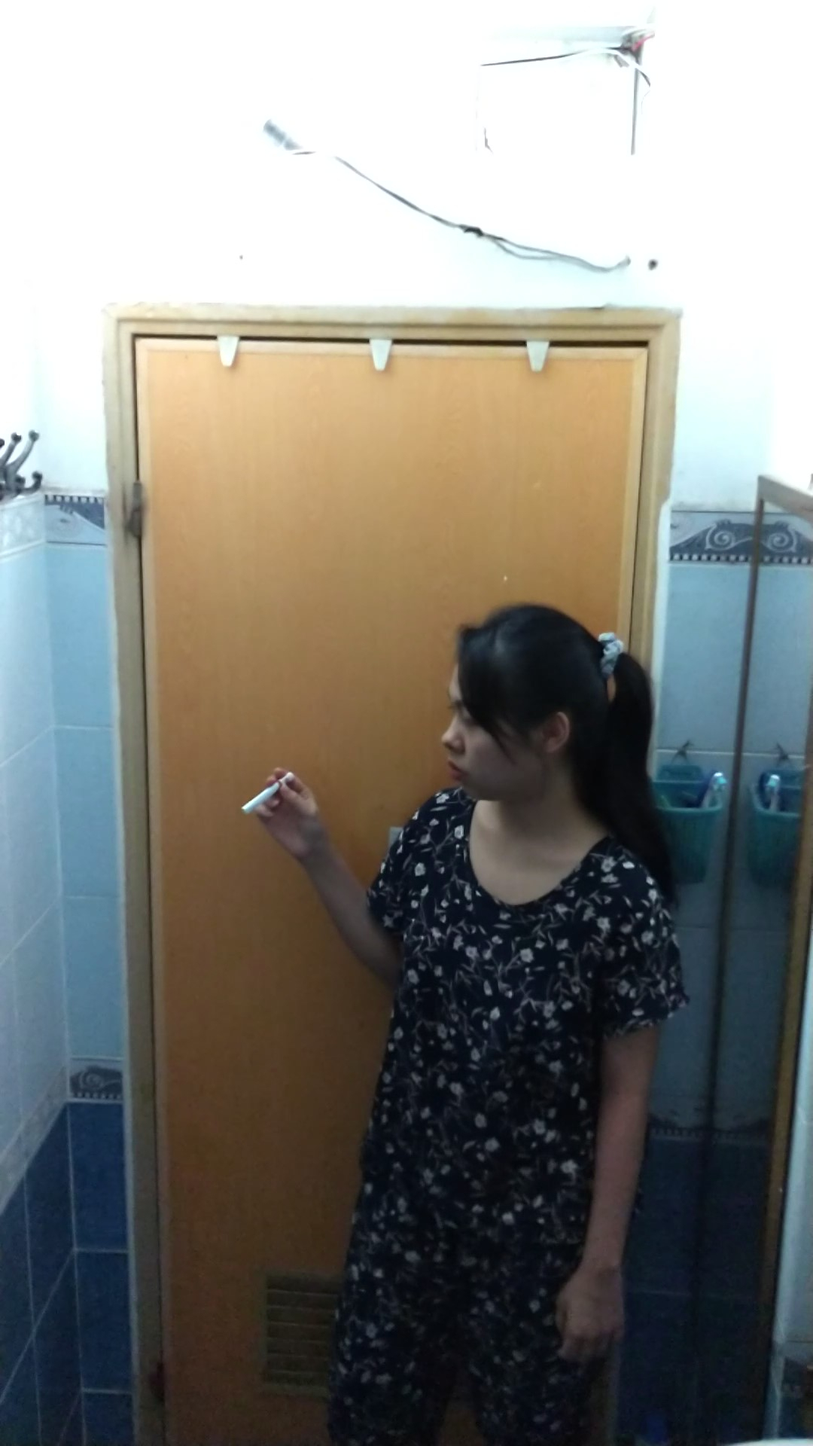cigarette: (238, 786, 279, 817)
person: (232, 576, 717, 1446)
